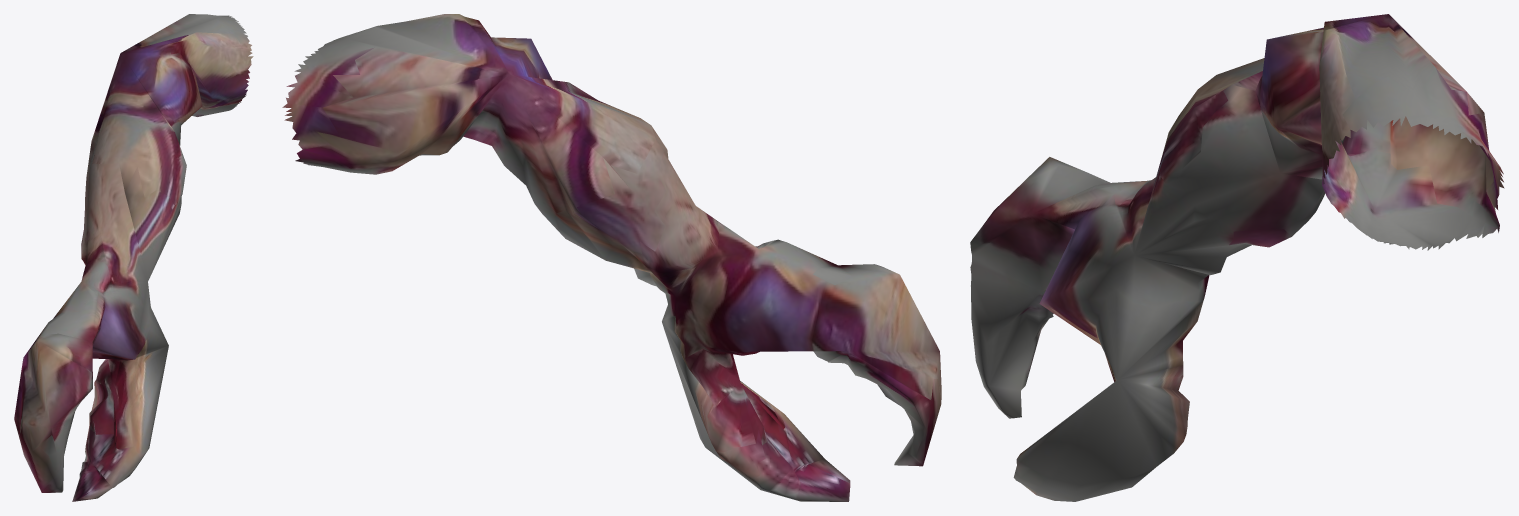
The model's file is Alien_BrazoIzq.obj.
3 renders of one model, left to right at view 1: azimuth 30°, elevation 25°; view 2: azimuth 150°, elevation 25°; view 3: azimuth 270°, elevation 25°, orthographic. The views are drawn at different scales.
Parts seen in each view (by area): view 1: BrazoIzq; view 2: BrazoIzq; view 3: BrazoIzq.
Part boxes in pixels (<box>): BrazoIzq: <box>14,14,253,501</box>; BrazoIzq: <box>282,14,941,501</box>; BrazoIzq: <box>970,14,1504,501</box>.
Size of the model in its own units: 0.2475 by 0.2557 by 0.2006.
